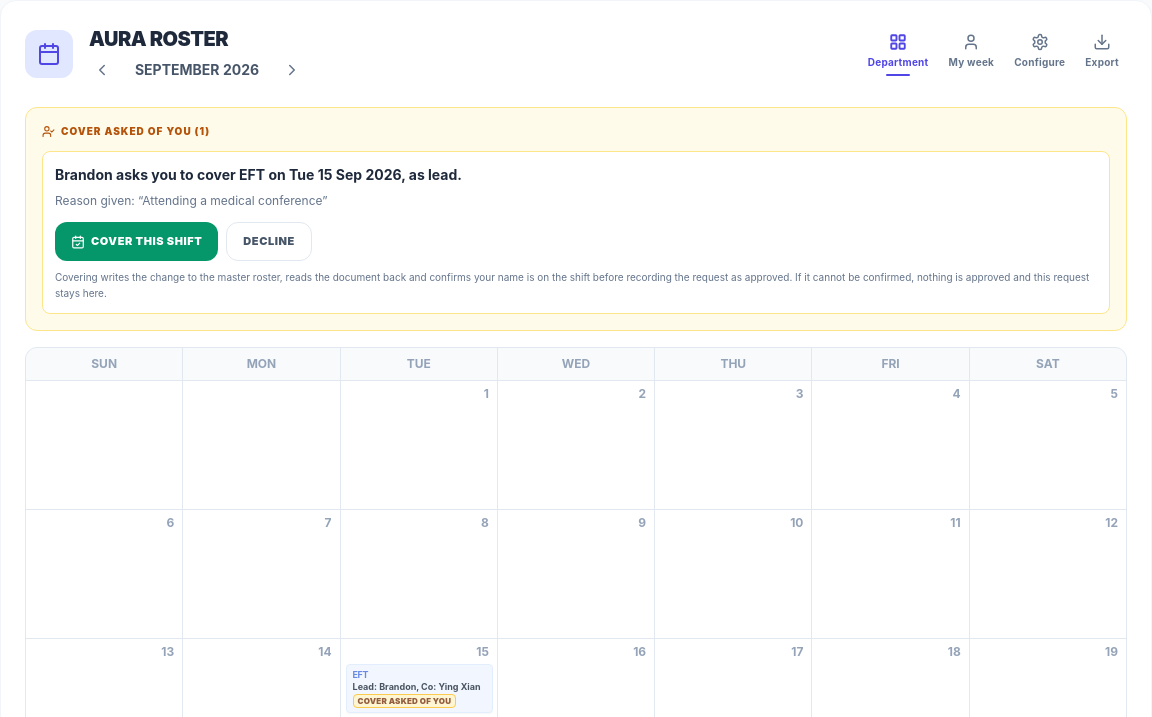
Test: accepting runs the verified sequence and only then reports success › shows the covered shift in the calendar once the roster snapshot arrives
Click the button "Cover this shift": [137, 242] box [55, 222, 218, 261]
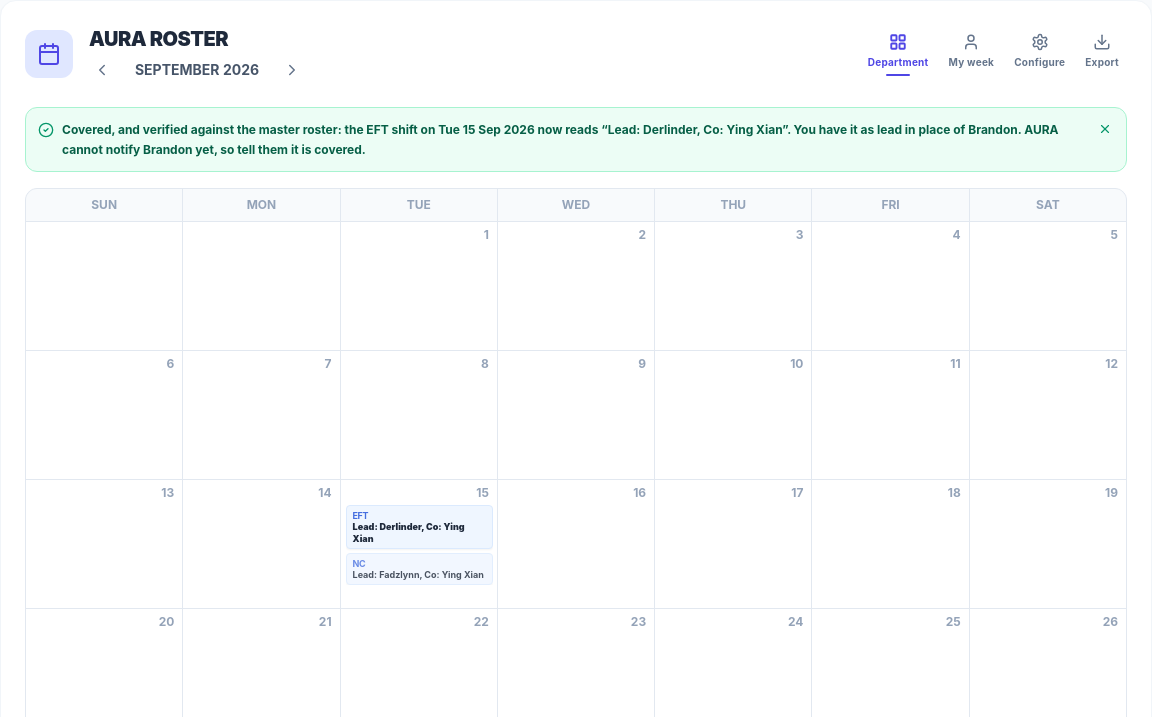
Check: the text "Lead: Derlinder, Co: Ying Xian" is shown, box [353, 521, 465, 544]
